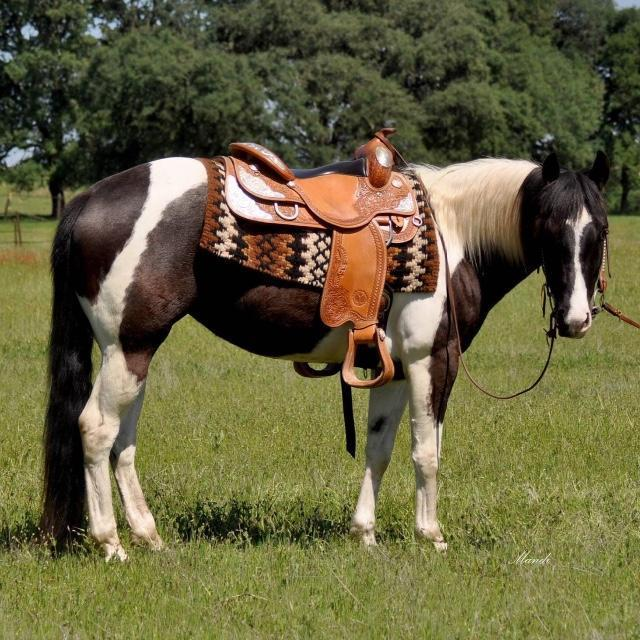horse: (28, 117, 626, 572)
